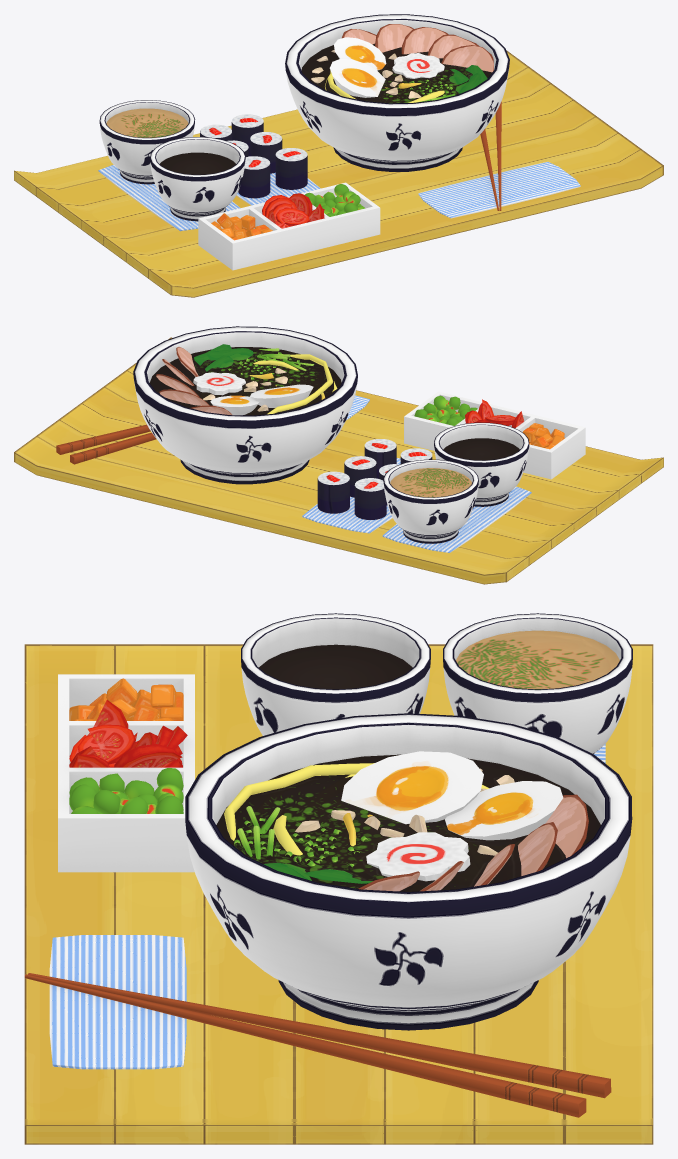
File: udon_meal.glb
3 views of the same model, one above another, from view 1: azimuth 30°, elevation 25°; view 2: azimuth 150°, elevation 25°; view 3: azimuth 270°, elevation 25° (orthographic). The views are drawn at different scales.
Visible parts, largest first — view 1: table, bowl, miniPlate, cup_01, cloth_00, sushi_00 (×4), cup_00, bowl_liquid, cup_00_liquid, cloth_02, egg_01, cup_01_liquid (+9 smaller); view 2: table, bowl, cup_00, miniPlate, bowl_liquid, cup_01, sushi_00 (×4), cloth_02, cup_00_liquid, cloth_01, cup_01_liquid, noodle (+7 smaller); view 3: table, bowl, cloth_00, miniPlate, bowl_liquid, cup_01, cup_00, egg_01, chopstick_01, chopstick_00, cup_00_liquid, cup_01_liquid (+7 smaller).
Part boxes in pixels (x1,y1,x2,y2): table: (14, 50, 663, 297); bowl: (285, 14, 509, 171); miniPlate: (198, 182, 380, 270); cup_01: (150, 137, 245, 221); cloth_00: (418, 162, 580, 218); sushi_00 (×4): (231, 114, 307, 198); cup_00: (99, 100, 195, 184); bowl_liquid: (301, 43, 491, 103); cup_00_liquid: (106, 108, 188, 137); cloth_02: (98, 164, 240, 231); egg_01: (329, 58, 385, 97); cup_01_liquid: (160, 152, 235, 174); table: (14, 337, 663, 584); bowl: (133, 326, 357, 484); cup_00: (383, 459, 478, 543); miniPlate: (404, 391, 585, 479); bowl_liquid: (149, 347, 341, 415); cup_01: (434, 422, 529, 506); sushi_00 (×4): (317, 439, 396, 519); cloth_02: (382, 486, 531, 552); cup_00_liquid: (390, 468, 471, 497); cloth_01: (302, 458, 400, 533); cup_01_liquid: (443, 438, 519, 460); noodle: (249, 354, 337, 414); table: (24, 644, 653, 1144); bowl: (185, 713, 632, 1030); cloth_00: (49, 935, 186, 1069); miniPlate: (58, 674, 194, 872); bowl_liquid: (216, 754, 600, 891); cup_01: (241, 613, 430, 735); cup_00: (443, 613, 632, 753); egg_01: (341, 751, 483, 824); chopstick_01: (24, 974, 586, 1117); chopstick_00: (28, 973, 611, 1098); cup_00_liquid: (456, 630, 619, 689); cup_01_liquid: (259, 644, 412, 689).
Bounding box in the file's own units: 6.44 × 1.2 × 3.55.
4 materials, 4 textured.
